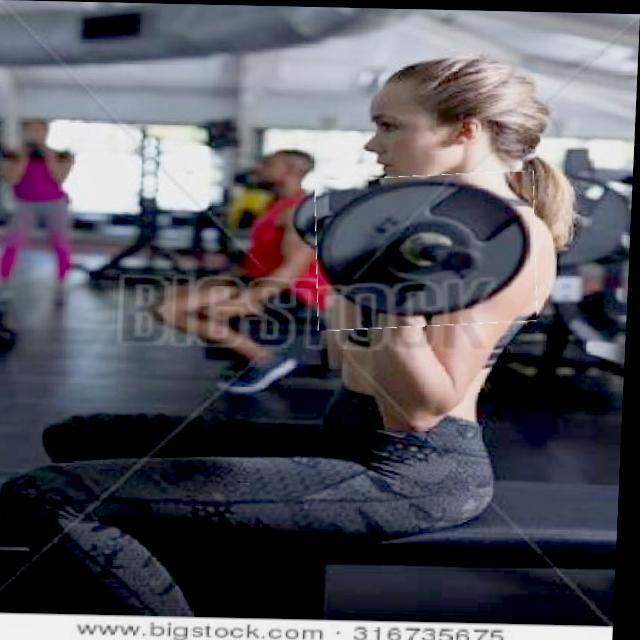barbell: (315, 169, 544, 330)
